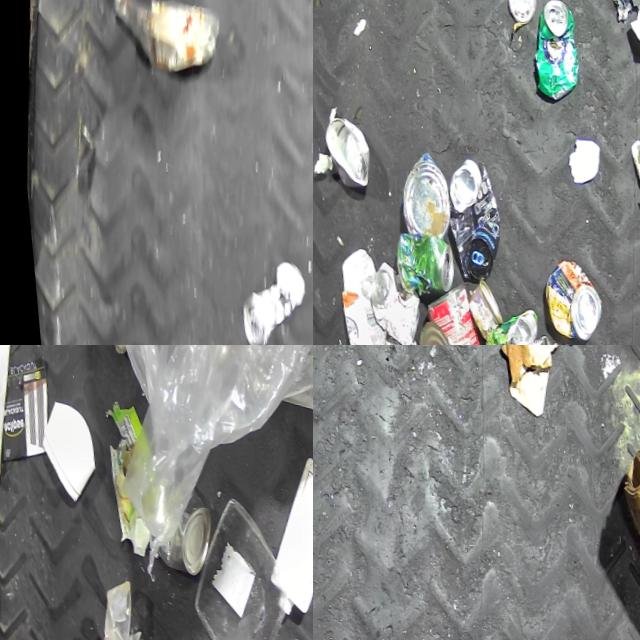can: (430, 155, 503, 281), (215, 241, 303, 345), (135, 482, 209, 574), (523, 0, 583, 101), (529, 256, 599, 342), (388, 148, 451, 238), (354, 258, 419, 345), (406, 280, 489, 345), (386, 230, 452, 298), (313, 110, 370, 186), (454, 278, 500, 340), (471, 303, 533, 345), (398, 320, 465, 345), (500, 0, 537, 24)
milk_jug: (244, 452, 313, 623)
